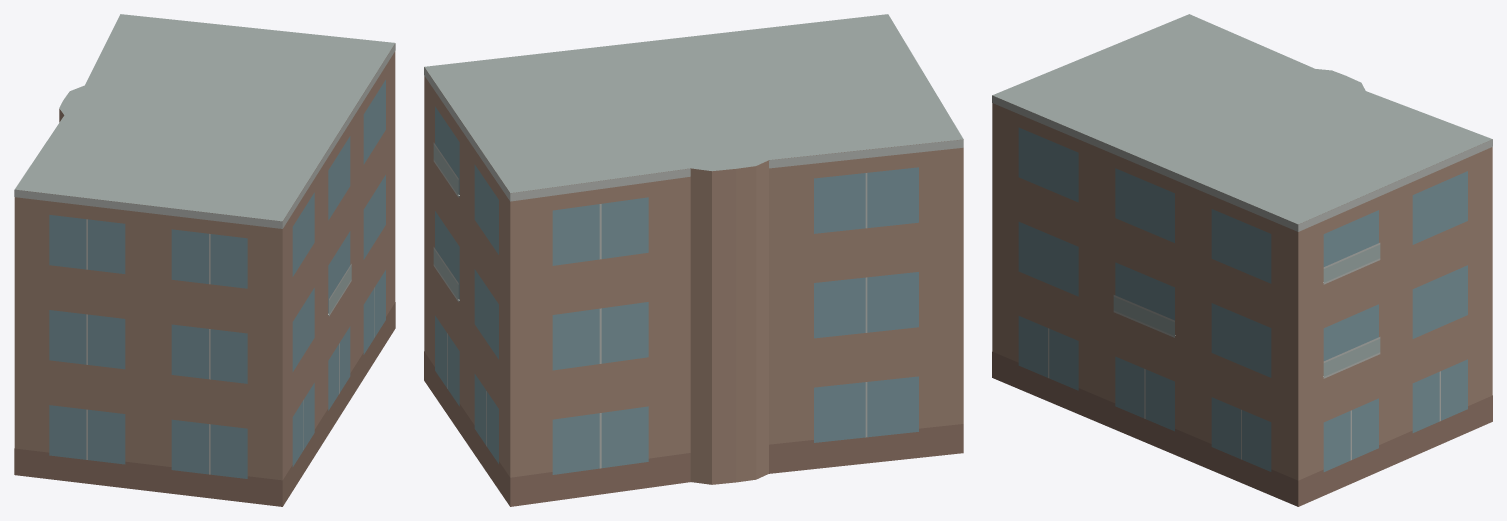
Rendered from survey-upis-32641512.glb.
3 renders of one model, left to right at view 1: azimuth 30°, elevation 25°; view 2: azimuth 150°, elevation 25°; view 3: azimuth 270°, elevation 25°, orthographic. The views are drawn at different scales.
Visible parts, largest first — view 1: survey-upis-32641512.tmp; view 2: survey-upis-32641512.tmp; view 3: survey-upis-32641512.tmp.
Boxes of the visible parts, x1=… form: survey-upis-32641512.tmp: x1=14, y1=14, x2=395, y2=506; survey-upis-32641512.tmp: x1=424, y1=14, x2=963, y2=506; survey-upis-32641512.tmp: x1=992, y1=14, x2=1492, y2=506.
Bounding box in the file's own units: 14.63 × 9.15 × 14.71.
